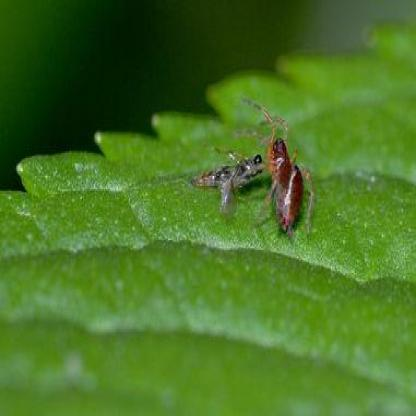aphid: (198, 141, 272, 191), (275, 156, 309, 240), (263, 124, 291, 194)
